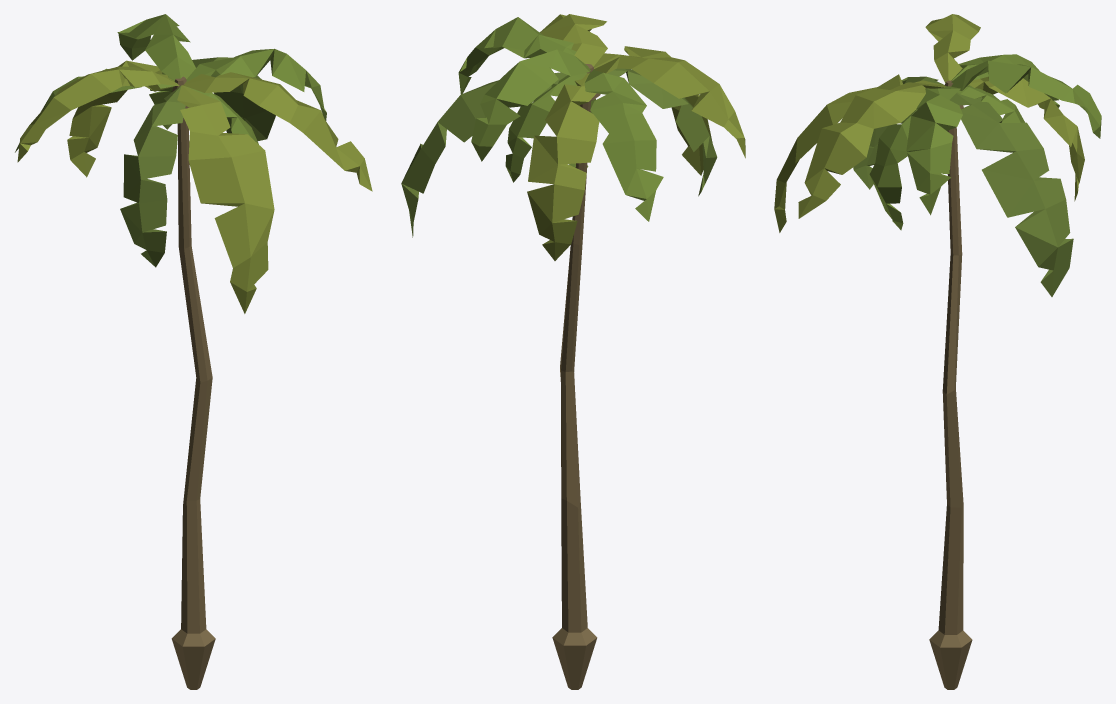
Rendered from Palm_3.fbx.
3 views of the same model, side by side, from view 1: azimuth 30°, elevation 25°; view 2: azimuth 150°, elevation 25°; view 3: azimuth 270°, elevation 25° (orthographic). The views are drawn at different scales.
Visible parts, largest first — view 1: Palm_3; view 2: Palm_3; view 3: Palm_3.
Part boxes in pixels (left/top/right/bottom): Palm_3: left=15, top=14, right=372, bottom=689; Palm_3: left=401, top=14, right=745, bottom=689; Palm_3: left=774, top=14, right=1101, bottom=689.
Bounding box in the file's own units: 303 × 632 × 299.
